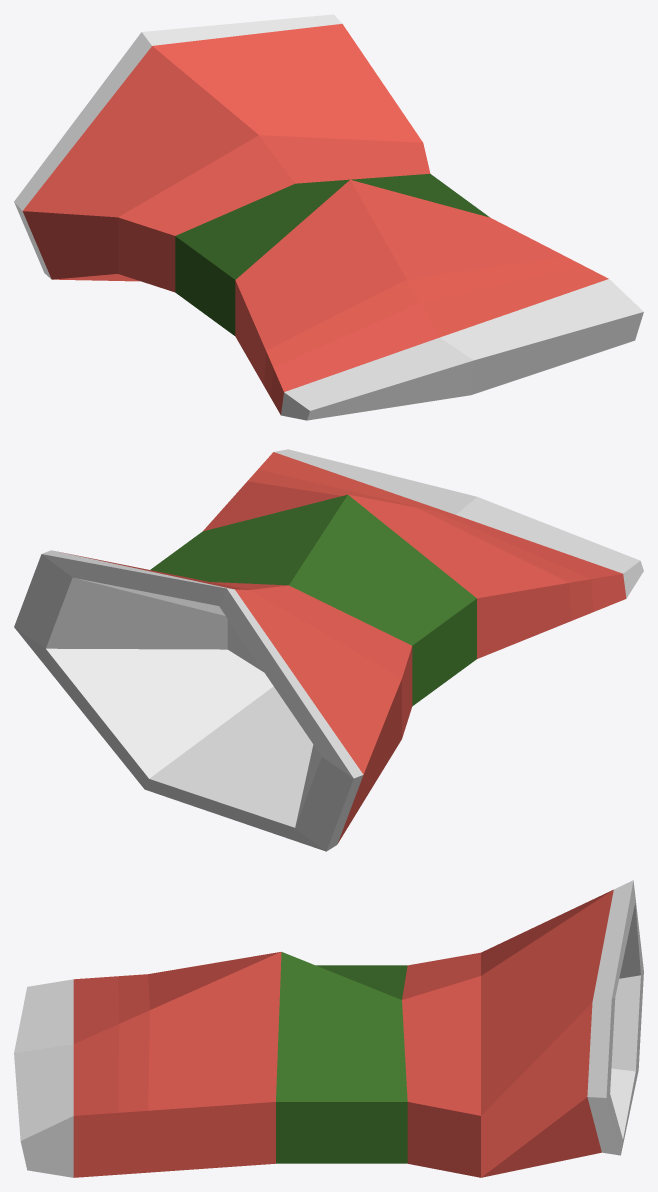
The model's file is Crisp Packet.fbx.
3 renders of one model, top to bottom at view 1: azimuth 30°, elevation 25°; view 2: azimuth 150°, elevation 25°; view 3: azimuth 270°, elevation 25°, orthographic. The views are drawn at different scales.
Visible parts, largest first — view 1: Crisp Packet; view 2: Crisp Packet; view 3: Crisp Packet.
Boxes of the visible parts, x1,y1,x2,y2 form: Crisp Packet: (14, 14, 643, 420); Crisp Packet: (14, 449, 643, 851); Crisp Packet: (14, 880, 643, 1177).
Bounding box in the file's own units: 80.69 × 49.02 × 116.
